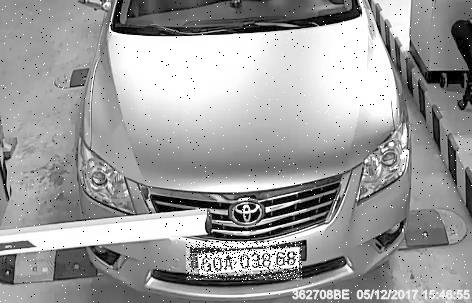License-plate: (187, 242, 303, 281)
